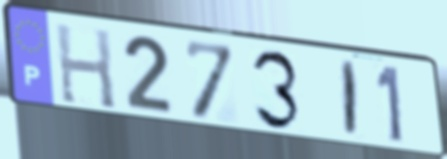1: (372, 63, 406, 147)
2: (125, 33, 178, 118)
3: (245, 47, 304, 132)
7: (184, 38, 235, 123)
H: (53, 20, 119, 113)
I: (341, 58, 360, 140)
